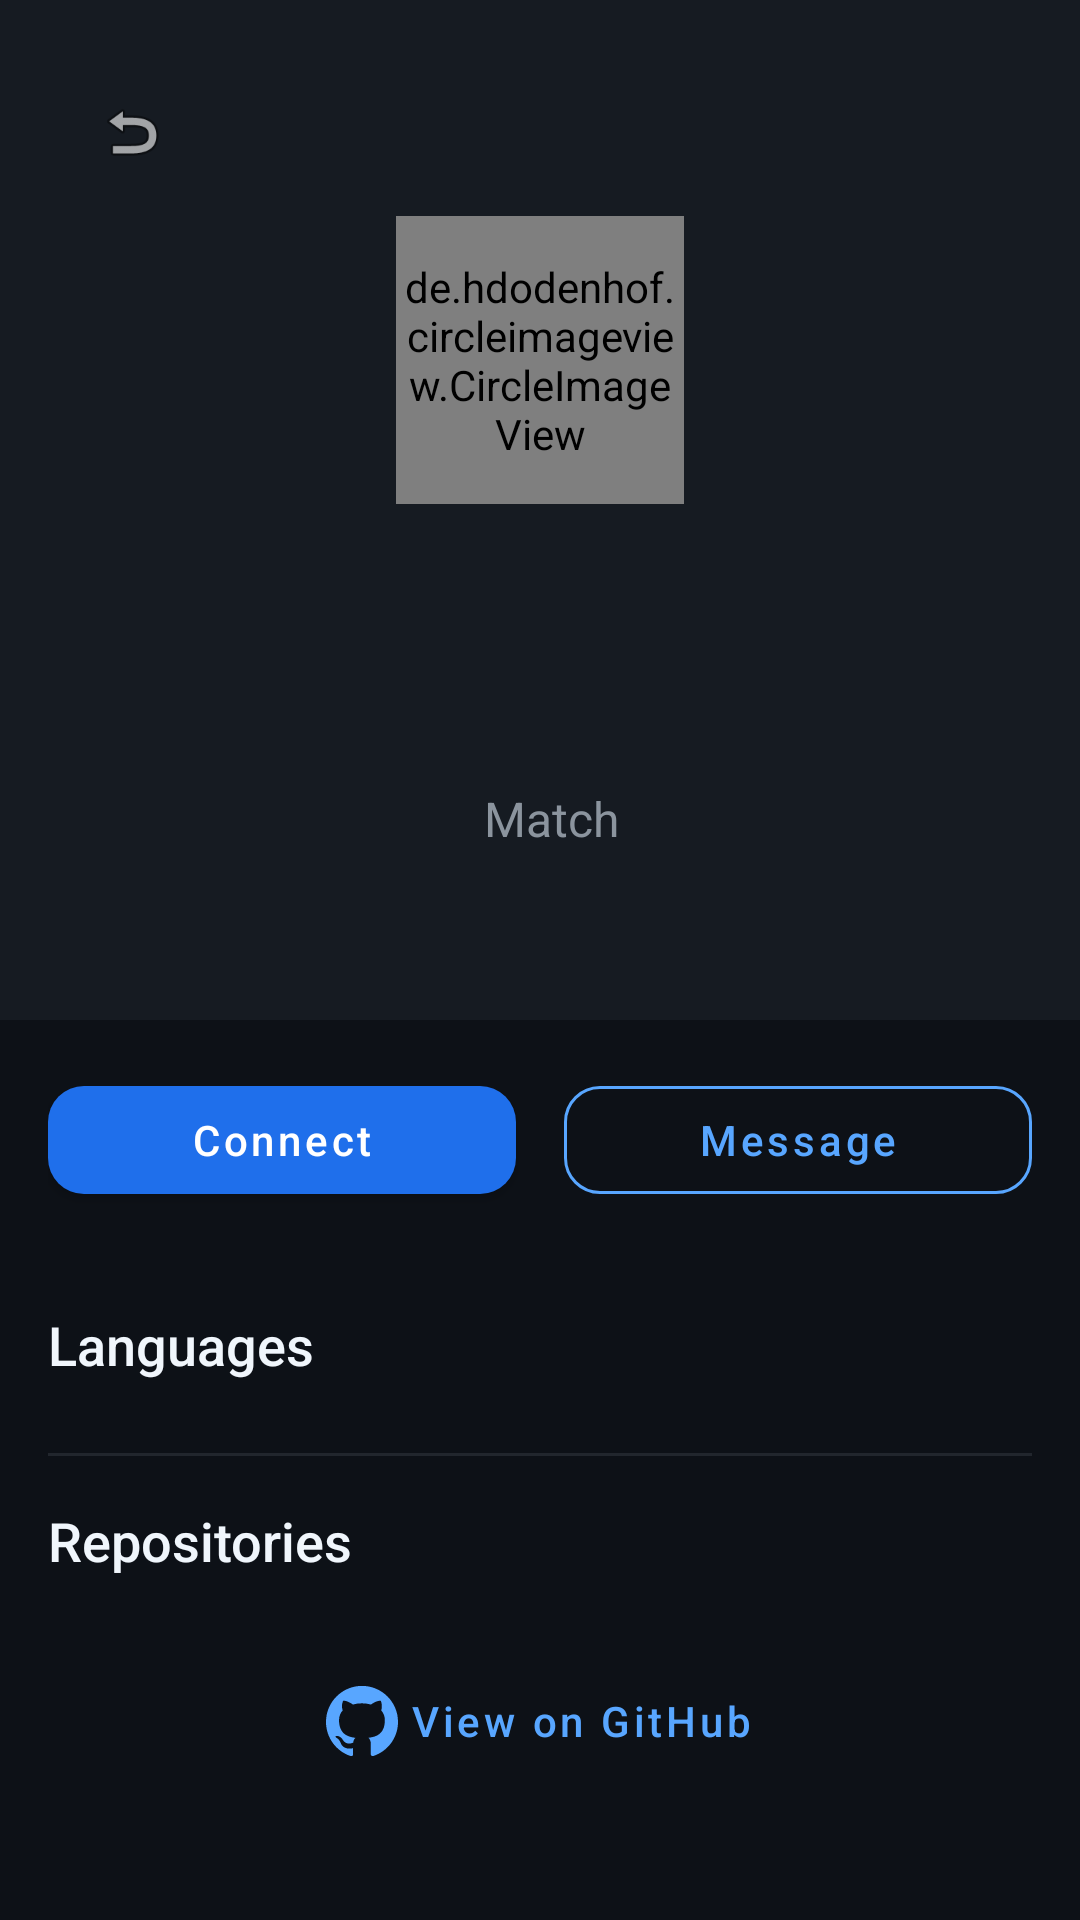

Where icons sit on this 1080w x 1920h app screen, as box(x1, y1, x2, y2):
Back: box(109, 111, 157, 154)
